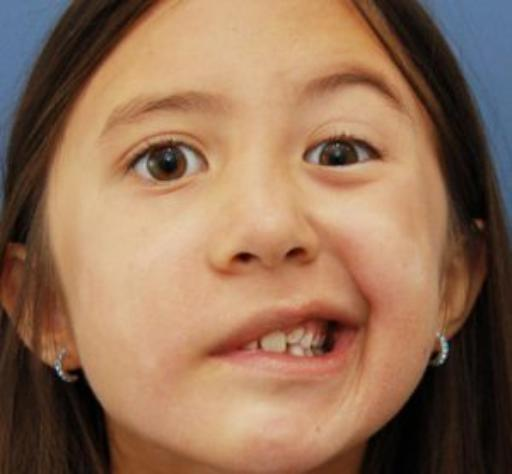left_eye: (300, 136, 385, 174)
left_lip_corner: (339, 313, 375, 345)
right_eye: (122, 139, 213, 187)
right_lip_corner: (196, 339, 227, 371)
